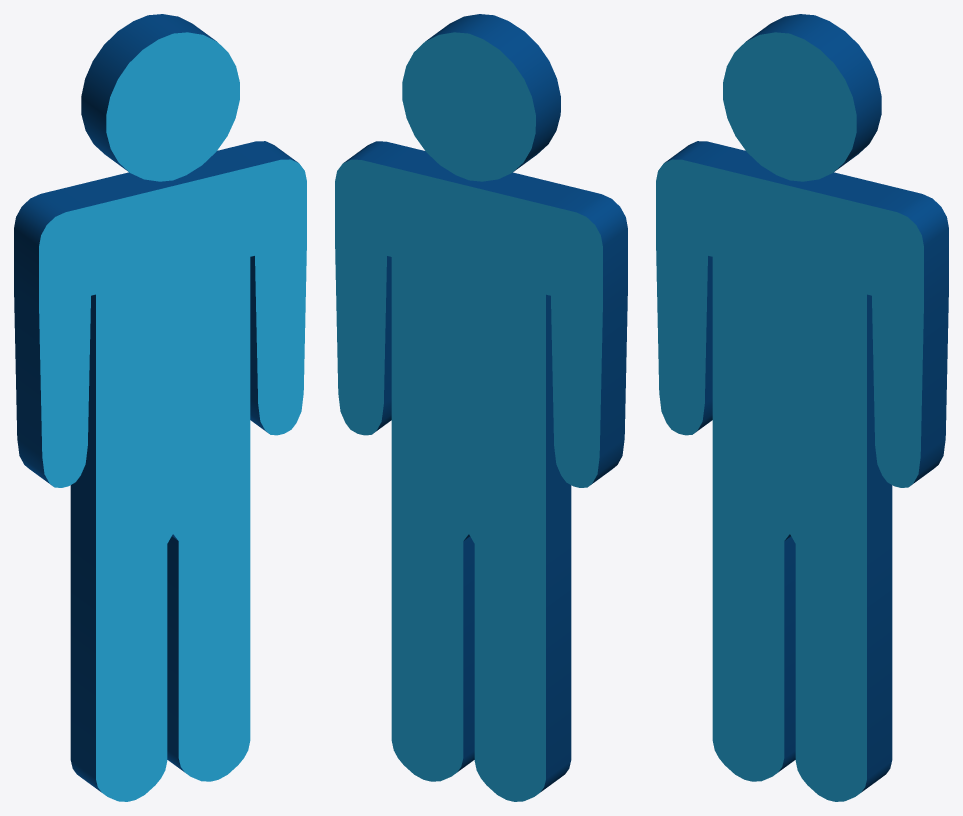
The model's file is Male Dummy.fbx.
The picture shows the model from 3 angles, left to right: view 1: azimuth 30°, elevation 25°; view 2: azimuth 150°, elevation 25°; view 3: azimuth 330°, elevation 25°; orthographic projection.
Parts seen in each view (by area): view 1: Male Dummy; view 2: Male Dummy; view 3: Male Dummy.
Boxes of the visible parts, box(x1,y1,x2,y2) form: Male Dummy: box(14, 14, 306, 801); Male Dummy: box(335, 14, 627, 801); Male Dummy: box(656, 14, 948, 801).
Bounding box in the file's own units: 73.54 × 199 × 11.97.
